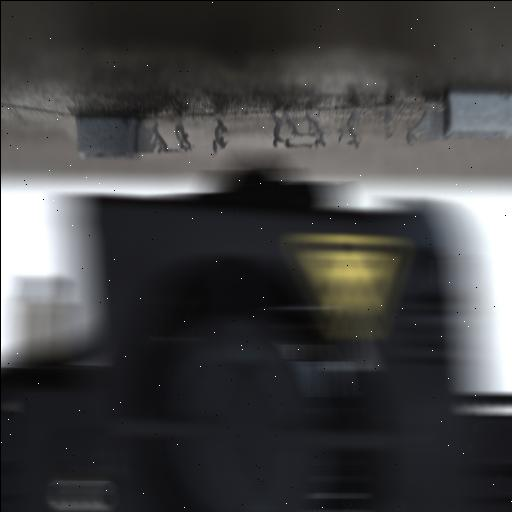stringing: (406, 103, 446, 143), (338, 108, 362, 148), (134, 118, 160, 154), (210, 118, 228, 156), (130, 116, 142, 158), (271, 114, 285, 148), (383, 103, 395, 139)
